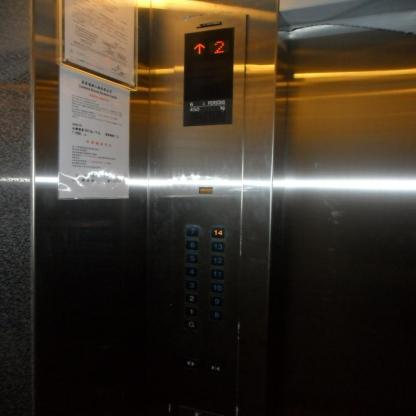1: (183, 304, 199, 317)
10: (209, 281, 224, 294)
11: (209, 267, 224, 280)
12: (209, 253, 225, 267)
13: (210, 239, 225, 253)
14: (210, 225, 225, 239)
2: (183, 291, 199, 305)
3: (183, 278, 199, 292)
4: (183, 265, 199, 278)
5: (184, 251, 199, 265)
6: (184, 238, 200, 251)
7: (184, 225, 200, 238)
8: (208, 307, 224, 321)
9: (209, 294, 224, 307)
G: (183, 317, 199, 330)
alarm: (198, 186, 213, 194)
close: (206, 362, 221, 373)
led: (182, 28, 233, 127)
open: (182, 358, 197, 369)
